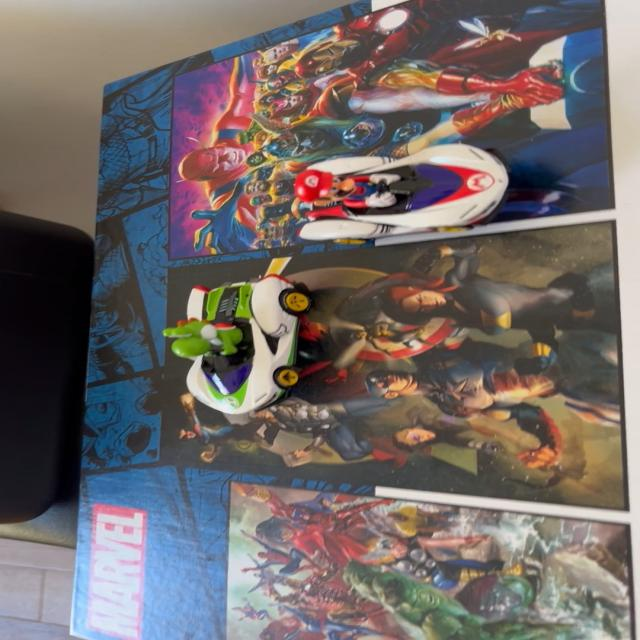mario: (282, 132, 534, 246)
yoshi: (158, 262, 329, 428)
